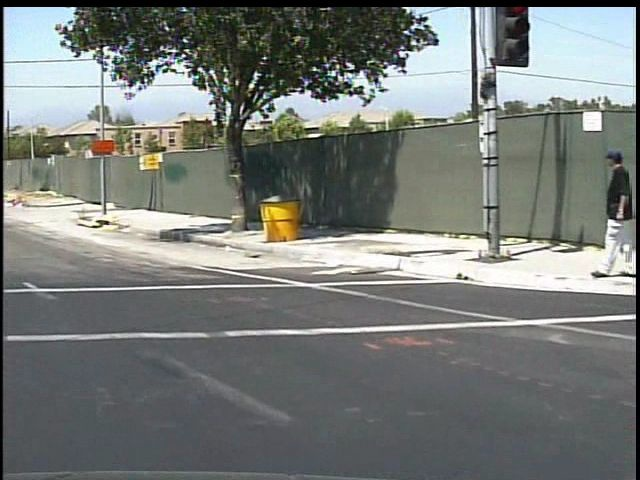person: (584, 143, 627, 288)
